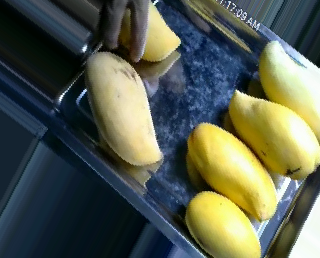Mango: (188, 122, 278, 222), (85, 51, 162, 165), (228, 90, 320, 180), (259, 39, 320, 143), (185, 189, 261, 258), (115, 1, 181, 61)
